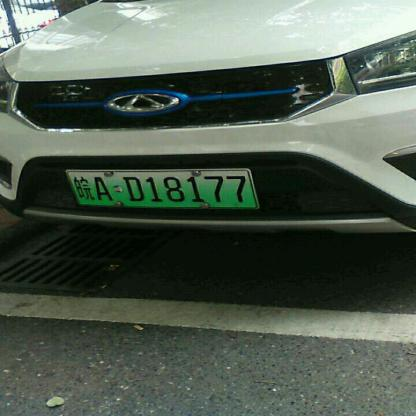lp: (67, 168, 257, 206)
